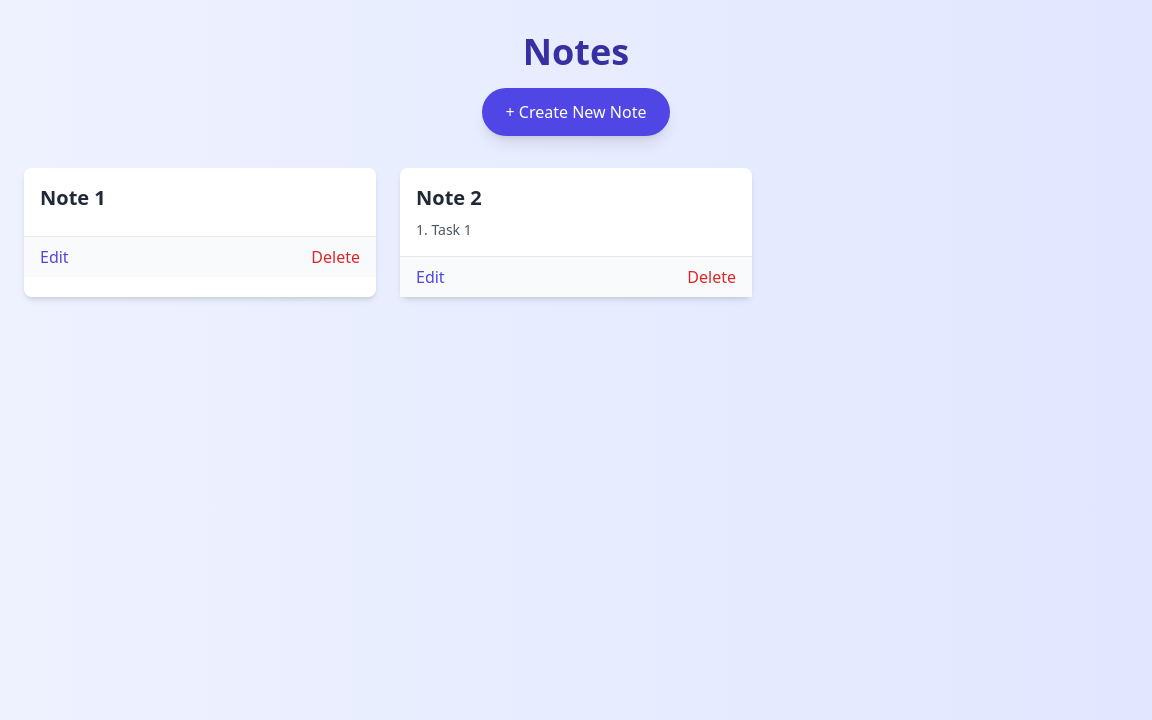
Test: Notes Page › should open a confirmation dialog when deleting a note
The image size is (1152, 720).
Click the button "Delete" below "Note 1".
click(336, 257)  # box [311, 245, 360, 269]
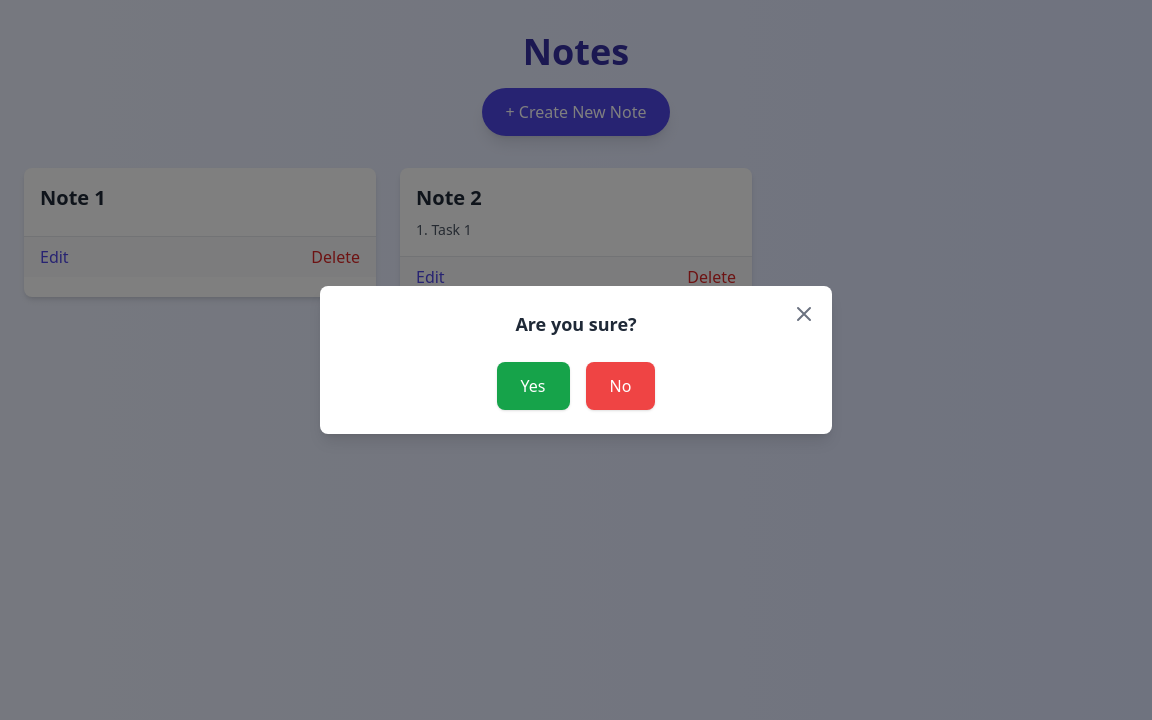
Expected: the text "Are you sure?" is shown, [515, 312, 637, 336]
Click the button titled "No".
click(621, 386)  # box [586, 362, 656, 410]
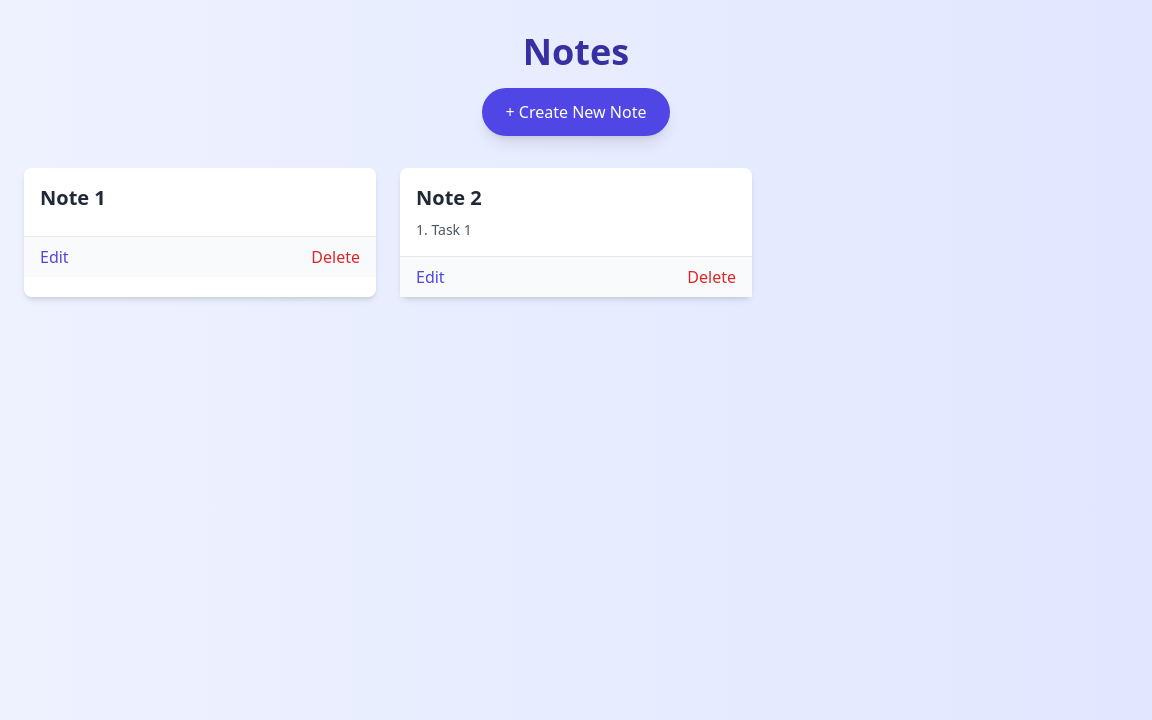
Expected: the text "Are you sure?" is gone
